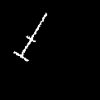double_crochet: (14, 14, 46, 60)
